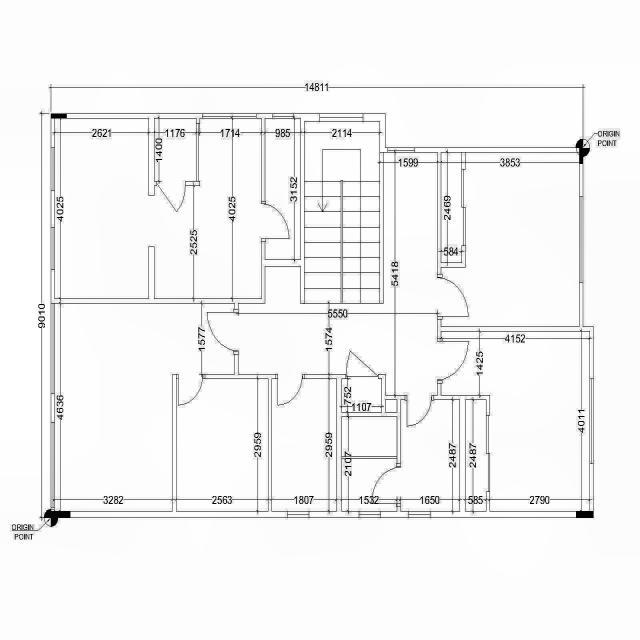Column: (50, 511, 70, 518), (576, 511, 594, 518), (51, 114, 67, 118), (579, 148, 583, 164)
Door: (437, 274, 469, 320), (438, 338, 470, 384), (206, 310, 239, 354), (371, 464, 401, 506), (261, 201, 290, 242), (405, 394, 434, 428), (346, 349, 378, 379), (157, 181, 186, 213), (176, 374, 205, 406), (276, 374, 304, 406)
Sliding Door: (486, 415, 490, 492)
Staircase: (304, 122, 380, 313)
Window: (51, 303, 55, 394), (51, 422, 55, 508), (590, 378, 594, 464), (579, 196, 583, 282), (320, 114, 363, 122), (462, 169, 466, 246), (202, 114, 256, 118), (51, 147, 55, 190), (51, 227, 55, 270), (408, 511, 431, 518), (287, 511, 309, 518), (359, 511, 381, 518), (388, 148, 414, 152), (272, 114, 294, 118)
